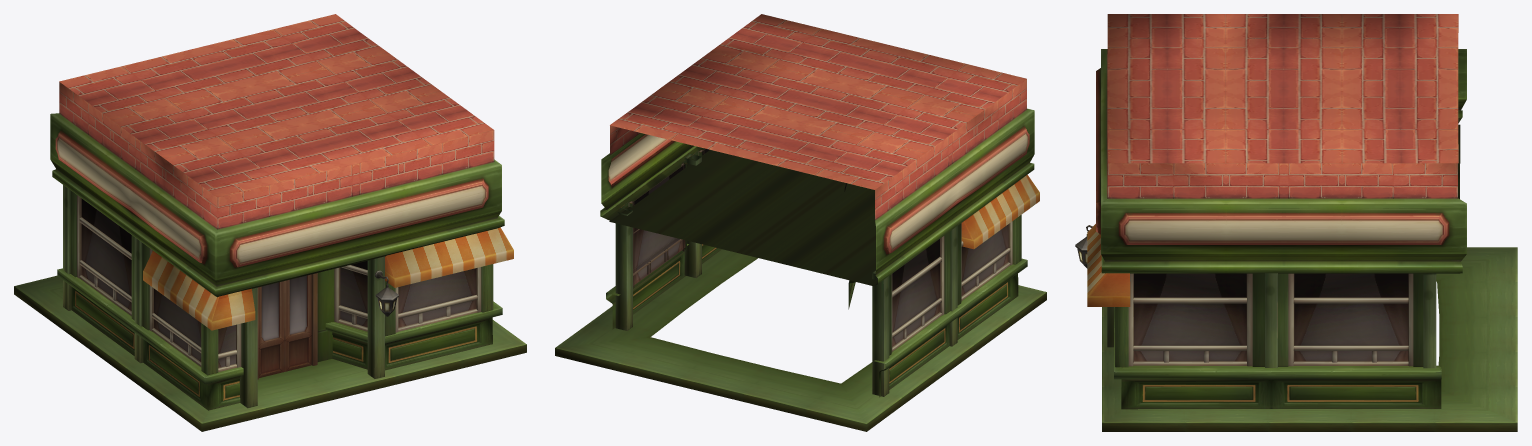
The model's file is dj_fangzi4.FBX.
3 views of the same model, side by side, from view 1: azimuth 30°, elevation 25°; view 2: azimuth 150°, elevation 25°; view 3: azimuth 270°, elevation 25° (orthographic). The views are drawn at different scales.
Parts seen in each view (by area): view 1: dj_jianzhu_04; view 2: dj_jianzhu_04; view 3: dj_jianzhu_04.
Part boxes in pixels (bbox=[...]): dj_jianzhu_04: bbox=[14, 14, 526, 431]; dj_jianzhu_04: bbox=[555, 14, 1046, 431]; dj_jianzhu_04: bbox=[1075, 14, 1517, 431].
Bounding box in the file's own units: 909 × 610 × 969.
